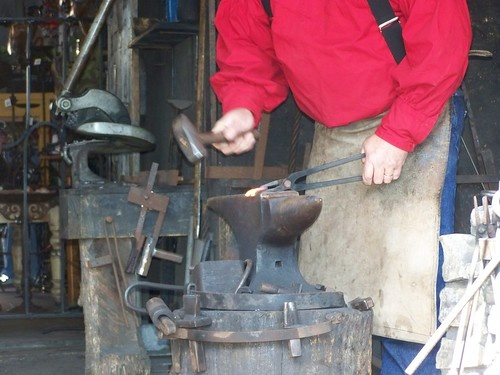hammer: (170, 111, 262, 162)
